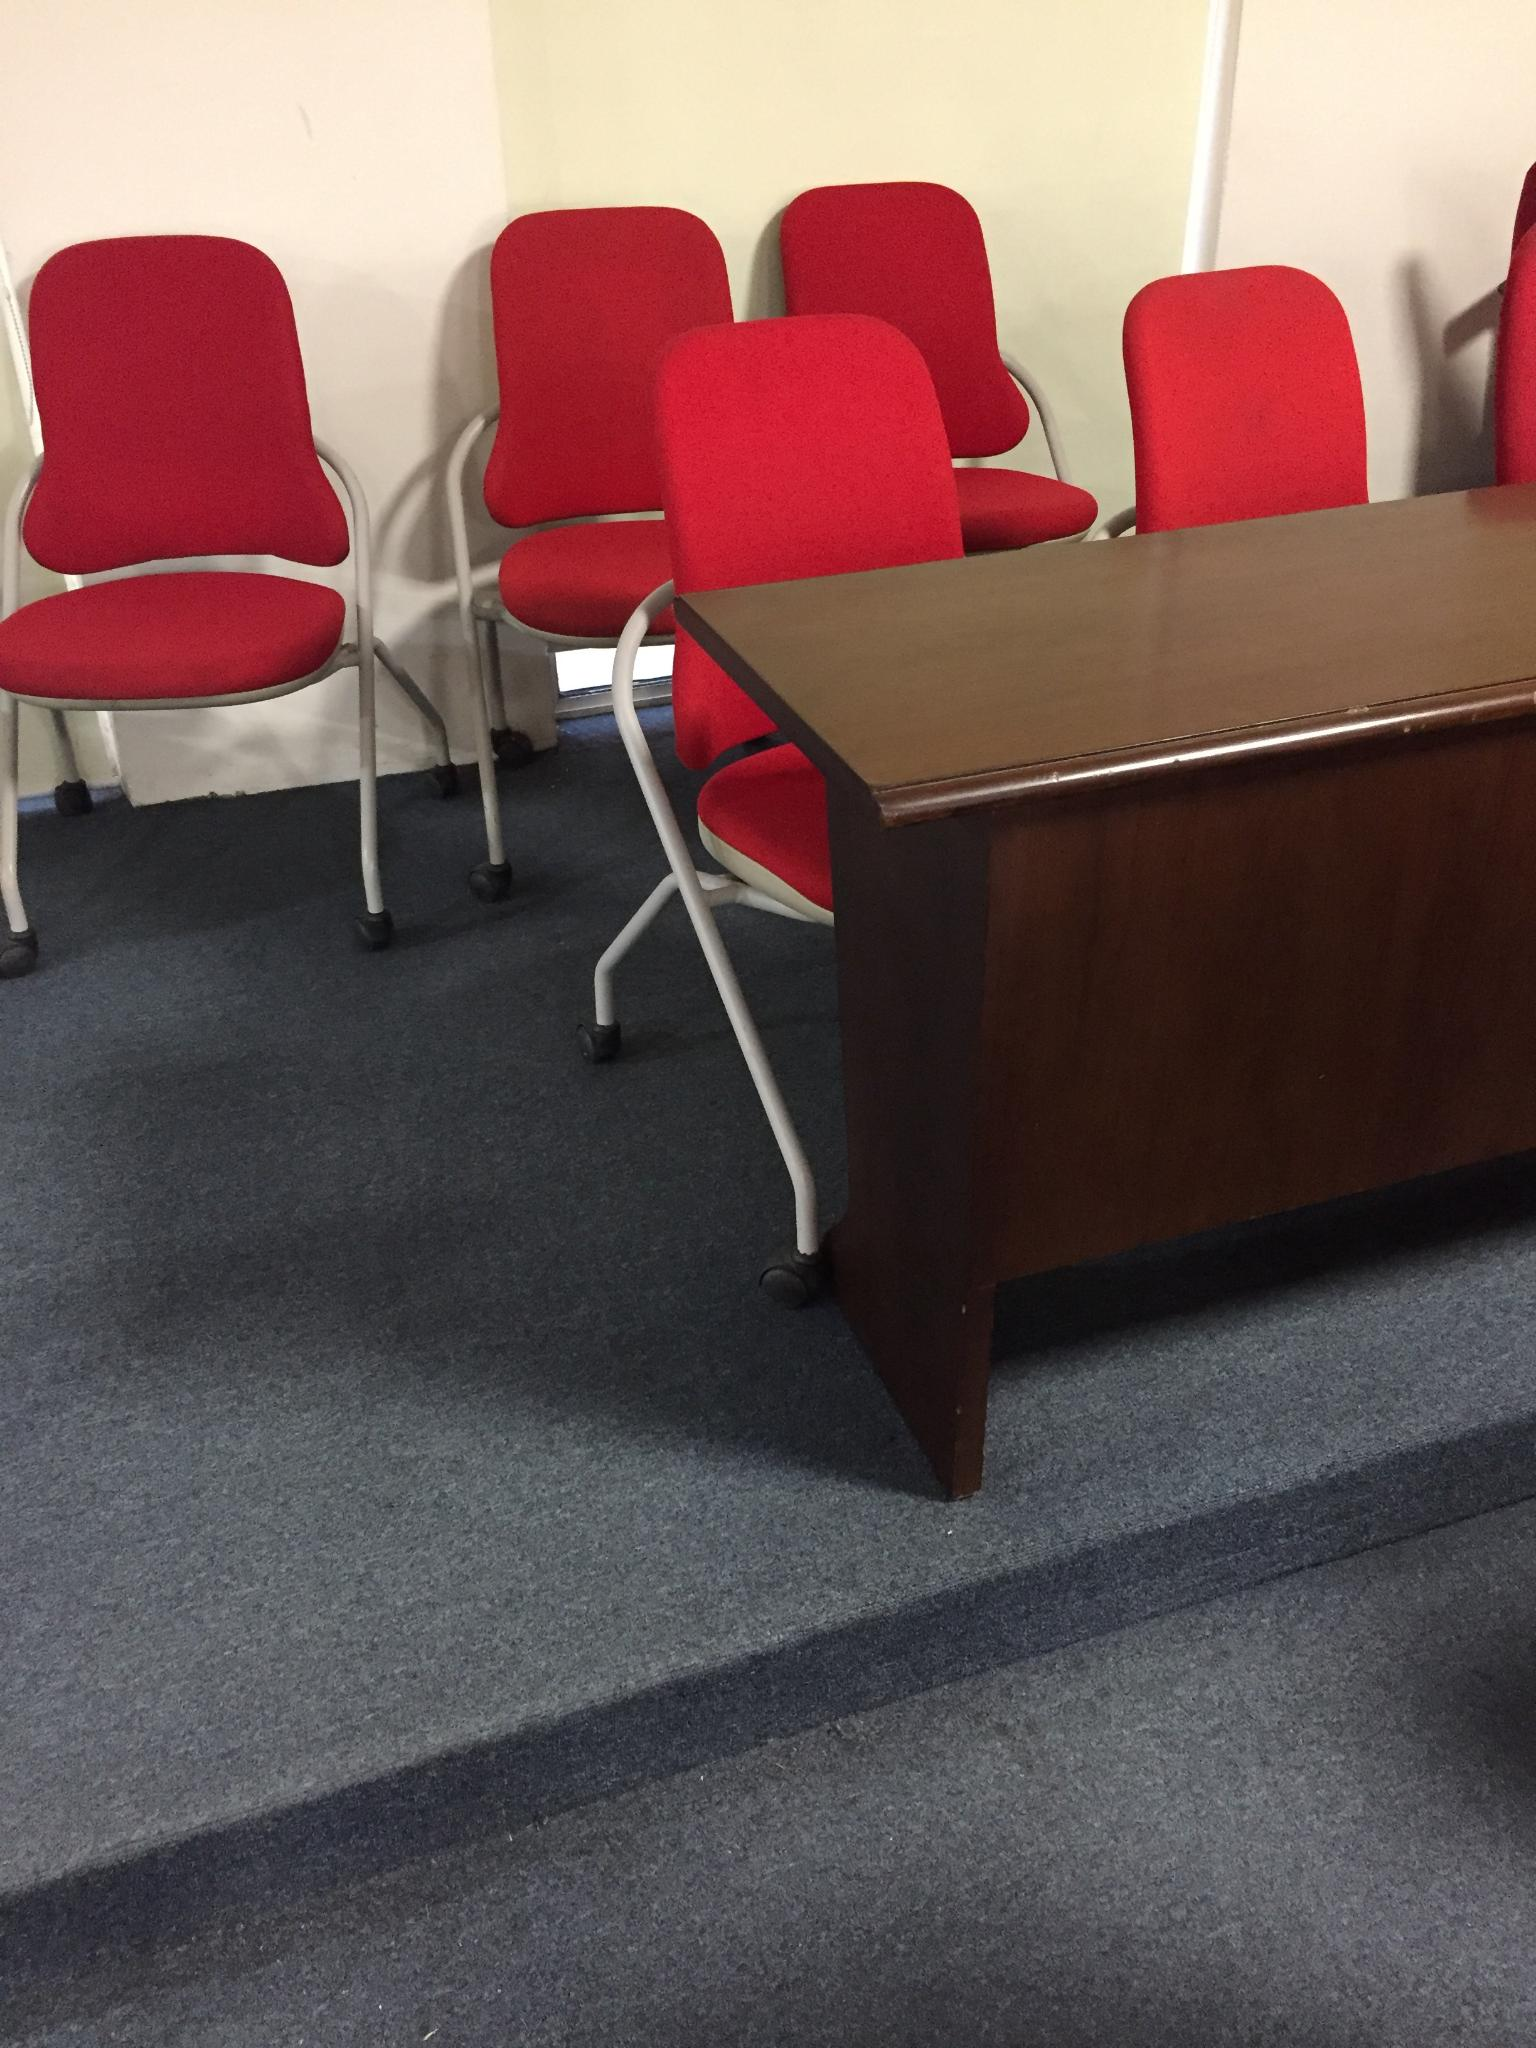chair: (0, 232, 395, 976), (445, 203, 744, 900), (779, 179, 1097, 555), (1094, 263, 1370, 539), (1494, 158, 1536, 503)
